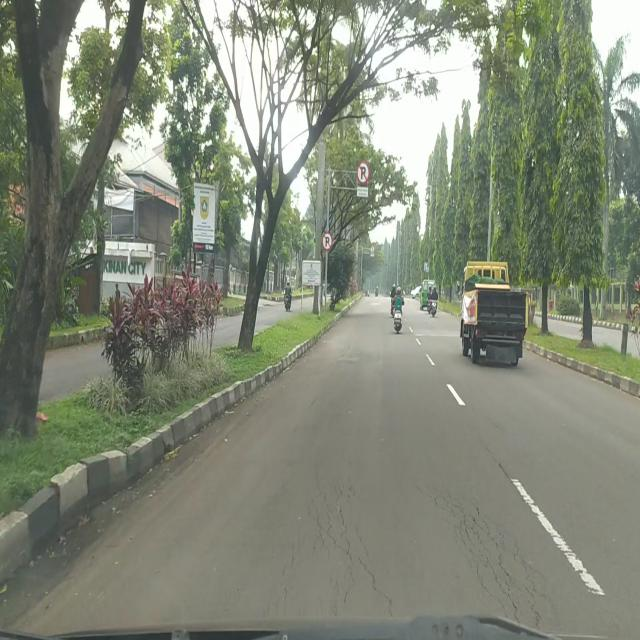Drain Hole: (272, 463, 400, 618), (442, 486, 552, 630)
